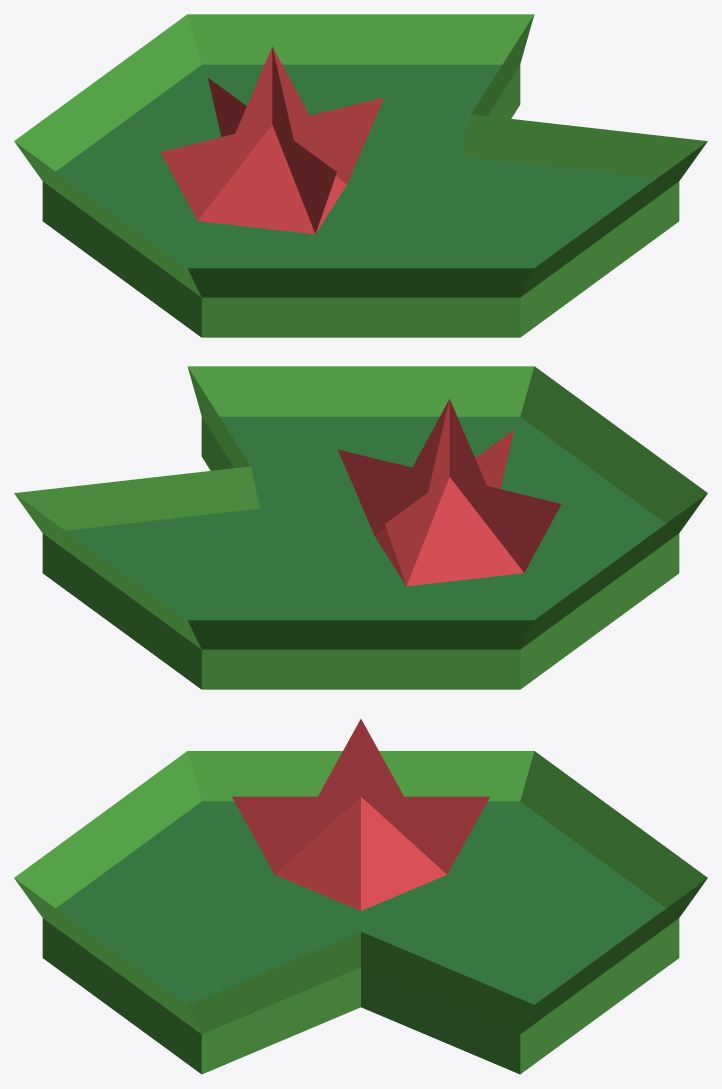
File: lily_large.glb
3 renders of one model, top to bottom at view 1: azimuth 30°, elevation 25°; view 2: azimuth 150°, elevation 25°; view 3: azimuth 270°, elevation 25°, orthographic.
Visible parts, largest first — view 1: lily_large; view 2: lily_large; view 3: lily_large.
Part boxes in pixels (<box>): lily_large: <box>14,14,707,337</box>; lily_large: <box>14,366,707,689</box>; lily_large: <box>14,719,707,1074</box>.
Bounding box in the file's own units: 0.2719 × 0.098 × 0.3139.
